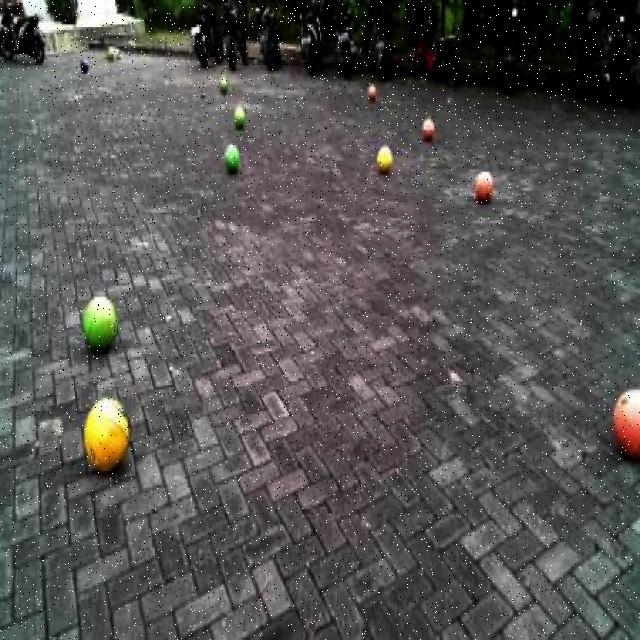buoy: (80, 396, 132, 479), (78, 287, 118, 353), (610, 380, 639, 462), (475, 160, 494, 203), (223, 136, 242, 174)
